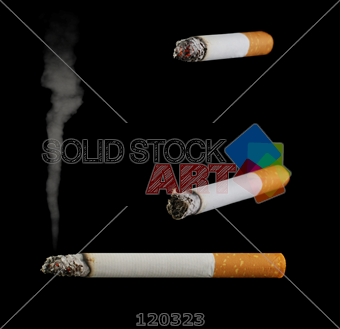cigar: (34, 241, 285, 286), (159, 159, 292, 225), (170, 29, 288, 68)
